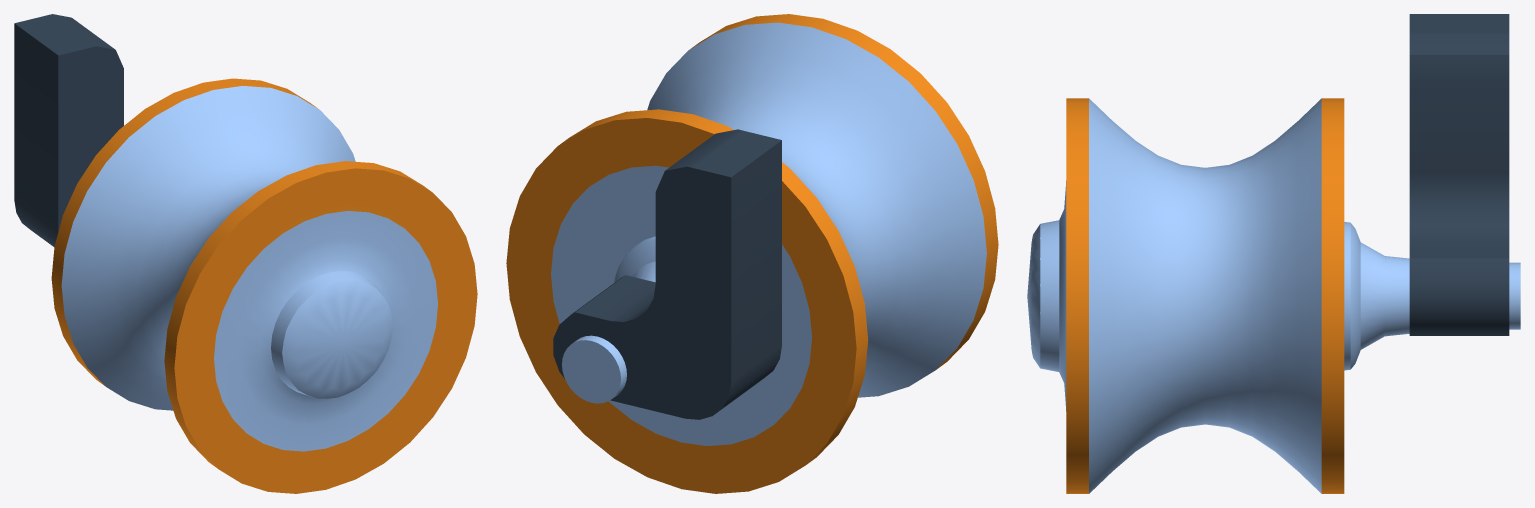
Rendered from WheelsUpgrade_02_mesh.fbx.
3 views of the same model, side by side, from view 1: azimuth 30°, elevation 25°; view 2: azimuth 150°, elevation 25°; view 3: azimuth 270°, elevation 25° (orthographic). The views are drawn at different scales.
Parts seen in each view (by area): view 1: Wheels.002; view 2: Wheels.002; view 3: Wheels.002.
Boxes of the visible parts, bbox=[...] form: Wheels.002: bbox=[14, 14, 477, 493]; Wheels.002: bbox=[506, 14, 998, 493]; Wheels.002: bbox=[1027, 14, 1520, 493].
Size of the model in its own units: 32.19 by 35.67 by 40.11.
